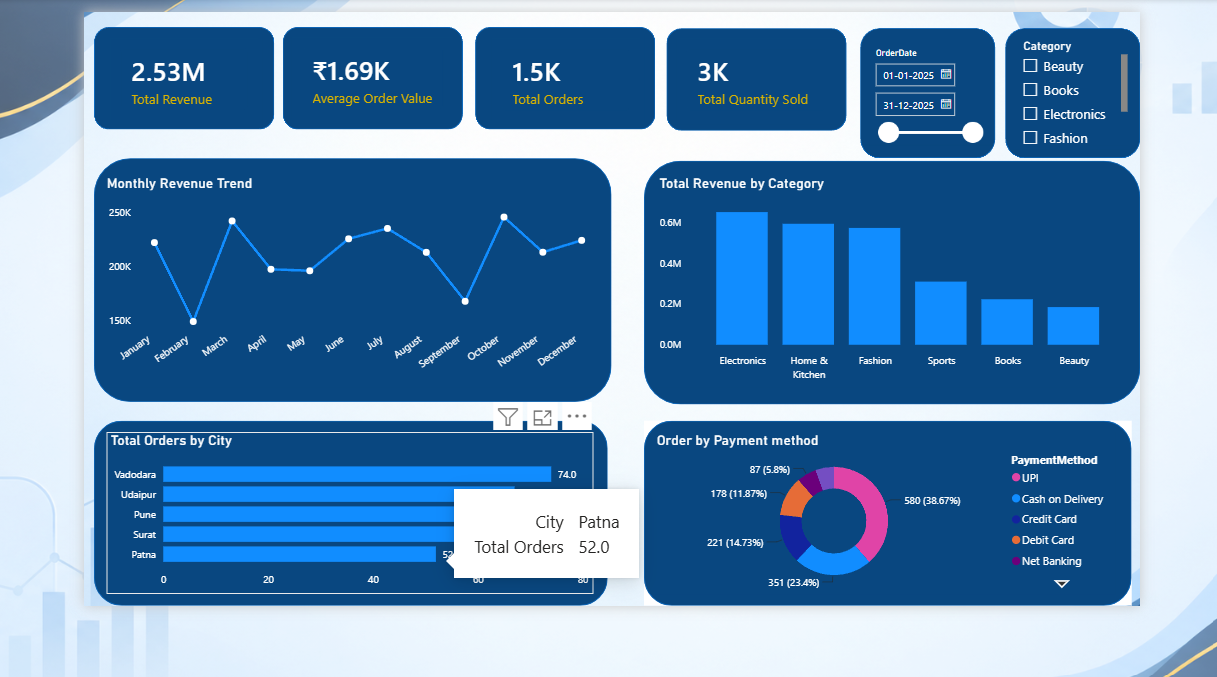

This screenshot's page, from the dashboard's own definition file:
{"tool":"powerbi","page":{"name":"Page 1","canvas":[1280,720],"ordinal":0},"visuals":[{"type":"shape","box":[11.4,18.6,218.6,124.3],"z":1001},{"type":"cardVisual","fields":{"Data":["Ecommerce_Data.Total Revenue"]},"box":[27.1,27.1,188.6,108.6],"z":1002},{"type":"shape","box":[474.2,18.2,218.2,124.2],"z":1003},{"type":"shape","box":[706.1,19.7,218.2,124.2],"z":1004},{"type":"shape","box":[240.9,18.2,218.2,124.2],"z":1005},{"type":"cardVisual","fields":{"Data":["Ecommerce_Data.Total Orders"]},"box":[489.4,27.3,189.4,109.1],"z":1006},{"type":"cardVisual","fields":{"Data":["Ecommerce_Data.Total Quantity Sold"]},"box":[713.6,27.3,203,109.1],"z":1007},{"type":"cardVisual","fields":{"Data":["Ecommerce_Data.Average Order Value"]},"box":[247,25.8,206.1,109.1],"z":1008},{"type":"shape","box":[12.1,177.3,627.3,295.5],"z":1010},{"type":"shape","box":[12.1,495.5,622.7,224.2],"z":1011},{"type":"lineChart","title":"Monthly Revenue Trend","fields":{"Category":["Ecommerce_Data.OrderDate.Variation.Date Hierarchy.Month"],"Y":["Ecommerce_Data.Total Revenue"]},"box":[22.7,197,604.5,257.6],"z":1012},{"type":"shape","box":[678.8,180.3,601.5,295.5],"z":1013},{"type":"clusteredColumnChart","fields":{"Category":["Ecommerce_Data.Category"],"Y":["Ecommerce_Data.Total Revenue"]},"box":[692.4,197,577.3,257.6],"z":1014},{"type":"shape","box":[678.8,495.5,590.9,224.2],"z":1015},{"type":"shape","box":[940.9,19.7,163.6,157.6],"z":1016},{"type":"clusteredBarChart","fields":{"Category":["Ecommerce_Data.City"],"Y":["Ecommerce_Data.Total Orders"]},"box":[27.3,509.1,589.4,197],"z":1017},{"type":"donutChart","title":"Order by Payment method ","fields":{"Category":["Ecommerce_Data.PaymentMethod"],"Y":["CountNonNull(Ecommerce_Data.State)"]},"box":[689.4,509.1,560.6,197],"z":1018},{"type":"slicer","fields":{"Values":["Ecommerce_Data.OrderDate"]},"box":[947,37.9,151.5,122.7],"z":1019},{"type":"shape","box":[1116.7,19.7,163.6,157.6],"z":1020},{"type":"slicer","fields":{"Values":["Ecommerce_Data.Category"]},"box":[1125.8,27.3,143.9,139.4],"z":1021}]}

Visuals, with their boxes in screenshot pixels (x1, y1, x2, y2), scaled from the page's 1280x720 canvas onto the 1217x677 screenshot:
shape: 11,17,219,134
cardVisual - Ecommerce_Data.Total Revenue: 26,25,205,128
shape: 451,17,658,134
shape: 671,19,879,135
shape: 229,17,437,134
cardVisual - Ecommerce_Data.Total Orders: 465,26,645,128
cardVisual - Ecommerce_Data.Total Quantity Sold: 678,26,871,128
cardVisual - Ecommerce_Data.Average Order Value: 235,24,431,127
shape: 12,167,608,445
shape: 12,466,604,676
"Monthly Revenue Trend" lineChart: 22,185,596,427
shape: 645,170,1216,447
clusteredColumnChart - Ecommerce_Data.Category x Ecommerce_Data.Total Revenue: 658,185,1207,427
shape: 645,466,1207,676
shape: 895,19,1050,167
clusteredBarChart - Ecommerce_Data.City x Ecommerce_Data.Total Orders: 26,479,586,664
"Order by Payment method " donutChart: 655,479,1188,664
slicer - Ecommerce_Data.OrderDate: 900,36,1044,151
shape: 1062,19,1216,167
slicer - Ecommerce_Data.Category: 1070,26,1207,157
